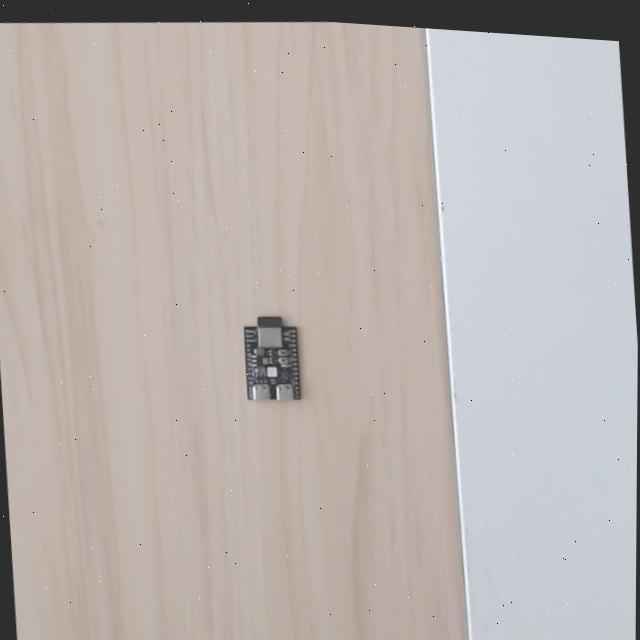ESP32C3-DevKit: (237, 311, 303, 406)
